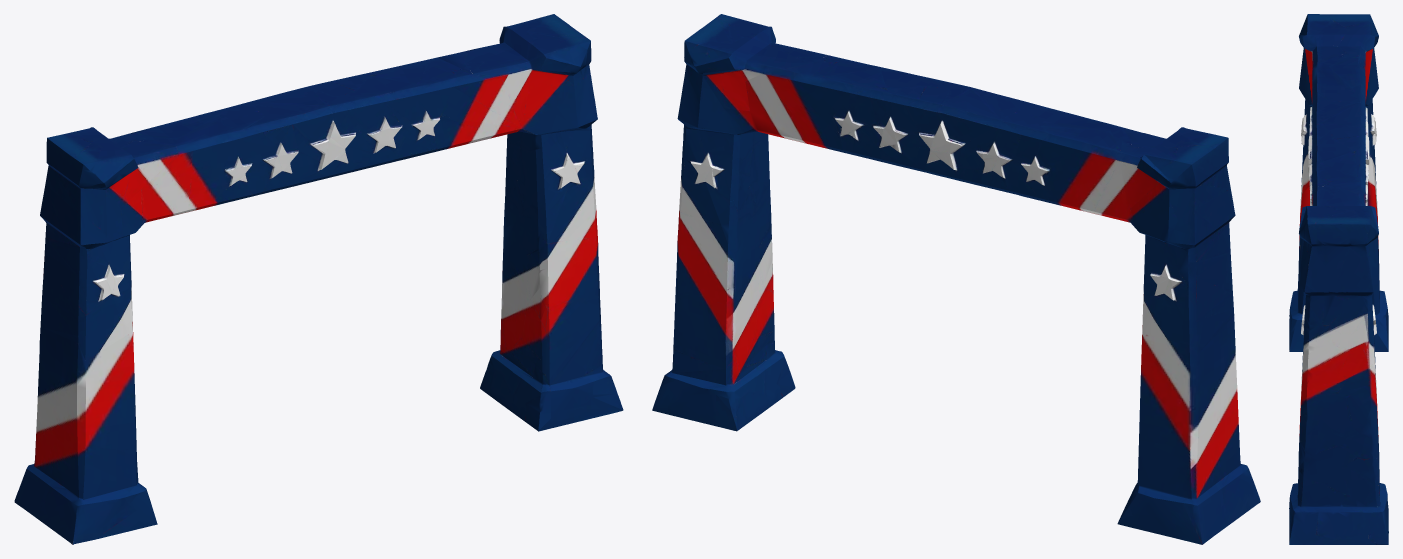
The model's file is gantry.glb.
The picture shows the model from 3 angles, left to right: view 1: azimuth 30°, elevation 25°; view 2: azimuth 150°, elevation 25°; view 3: azimuth 270°, elevation 25°; orthographic projection. The views are drawn at different scales.
Bounding box in the file's own units: 1.9 × 1.21 × 0.3508.
1 material, 1 textured.
